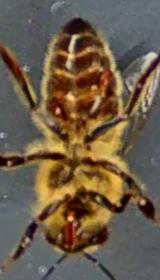varroa_mite: (86, 61, 129, 98), (44, 92, 68, 128)
